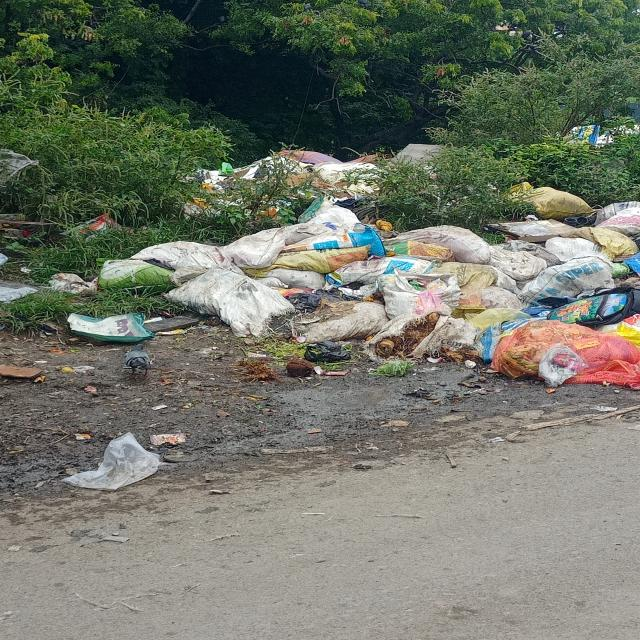garbage: (100, 204, 640, 389), (190, 144, 448, 205)
